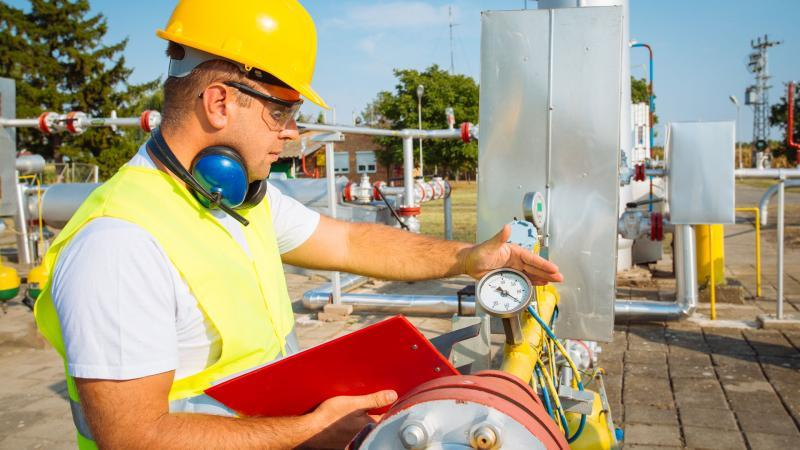helmet: (158, 1, 336, 110)
